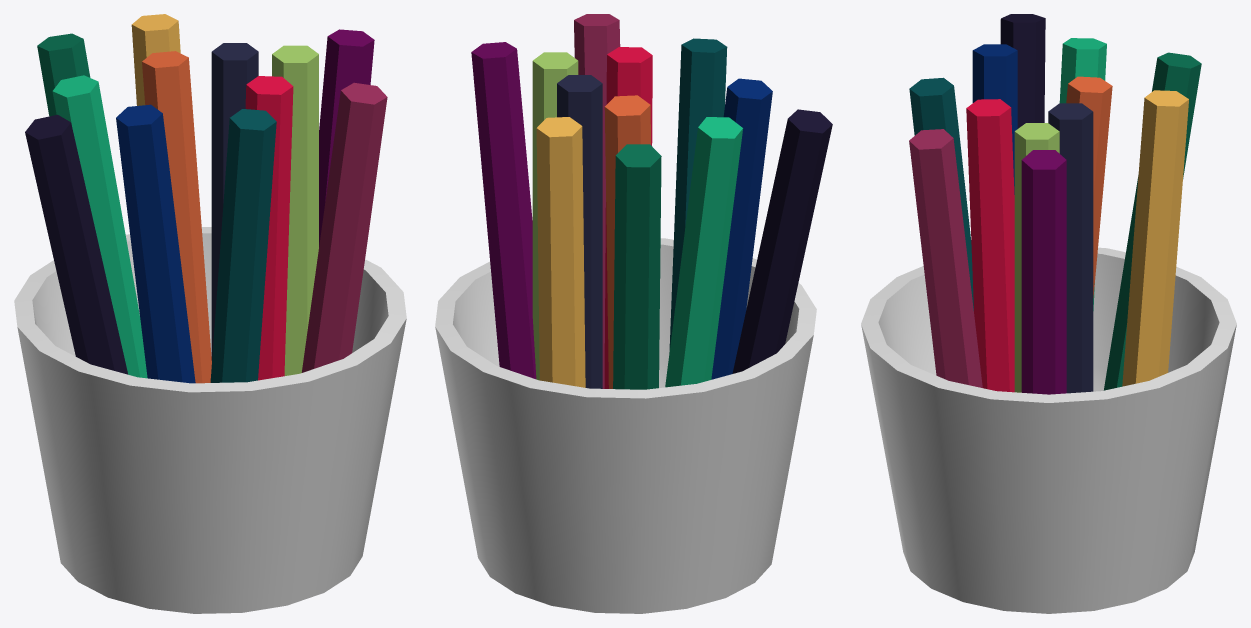
The model's file is Pencil Bucket.fbx.
The picture shows the model from 3 angles, left to right: view 1: azimuth 30°, elevation 25°; view 2: azimuth 150°, elevation 25°; view 3: azimuth 270°, elevation 25°; orthographic projection. The views are drawn at different scales.
Visible parts, largest first — view 1: Pencils, Pencil Bucket; view 2: Pencils, Pencil Bucket; view 3: Pencil Bucket, Pencils.
Part boxes in pixels (bbox=[...]): Pencils: bbox=[25, 14, 387, 383]; Pencil Bucket: bbox=[14, 227, 406, 613]; Pencils: bbox=[471, 14, 832, 389]; Pencil Bucket: bbox=[435, 238, 816, 613]; Pencil Bucket: bbox=[861, 247, 1236, 613]; Pencils: bbox=[909, 14, 1201, 394].
Size of the model in its own units: 170 by 214 by 159.
